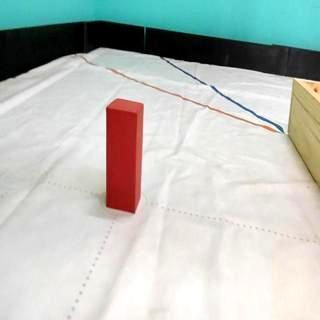redbox: (106, 96, 145, 214)
